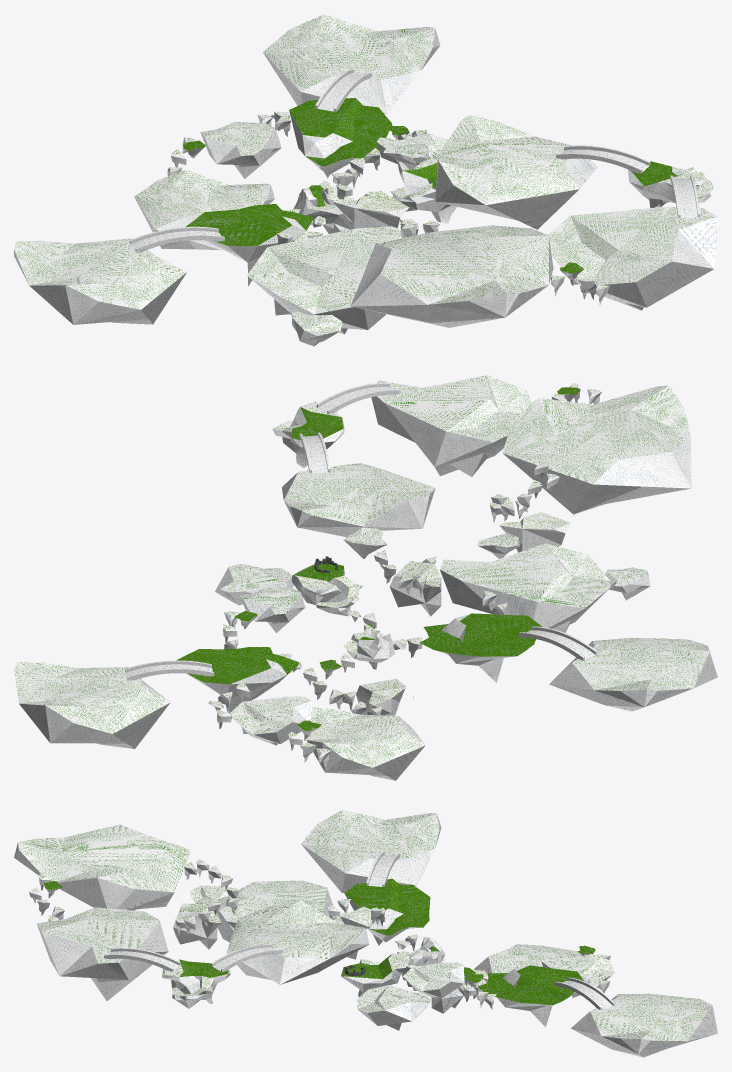
Rendered from Island Chain.dae.
3 renders of one model, top to bottom at view 1: azimuth 30°, elevation 25°; view 2: azimuth 150°, elevation 25°; view 3: azimuth 270°, elevation 25°, orthographic. The views are drawn at different scales.
Visible parts, largest first — view 1: SketchUp (×33); view 2: SketchUp (×37); view 3: SketchUp (×35).
Boxes of the visible parts, x1,y1,x2,y2 form: SketchUp (×33): [14, 14, 717, 335]; SketchUp (×37): [14, 375, 717, 780]; SketchUp (×35): [14, 809, 717, 1057].
Size of the model in its own units: 700 by 925 by 221.
